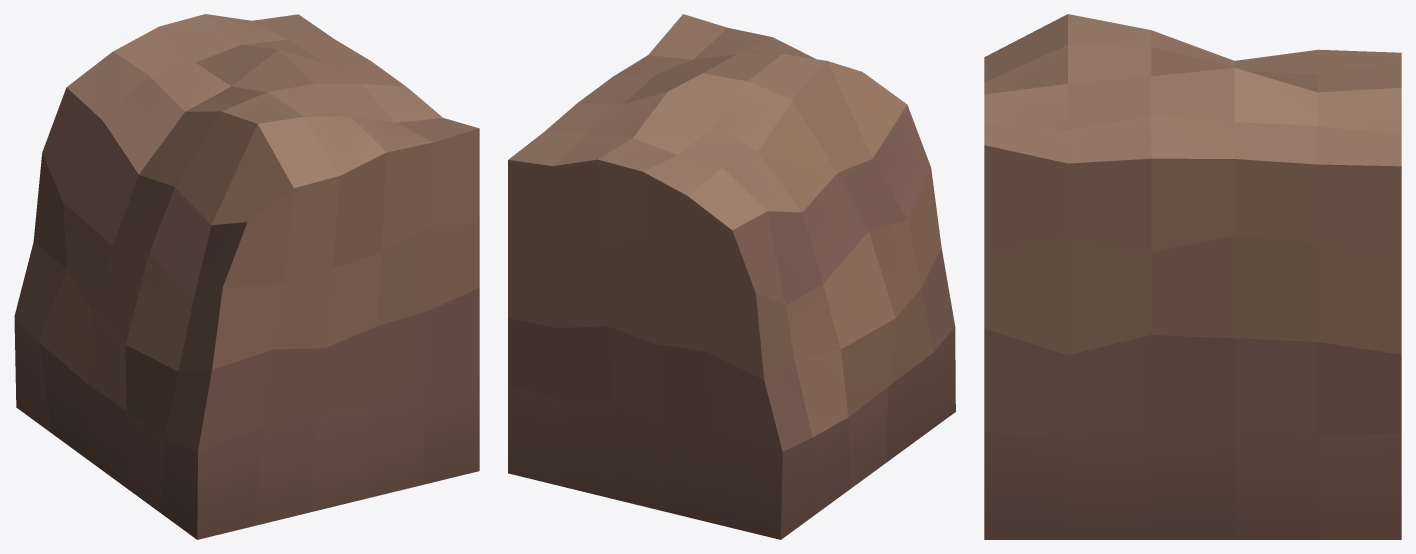
The model's file is roca_te_2.glb.
3 renders of one model, left to right at view 1: azimuth 30°, elevation 25°; view 2: azimuth 150°, elevation 25°; view 3: azimuth 270°, elevation 25°, orthographic. The views are drawn at different scales.
Parts seen in each view (by area): view 1: propforge-cuartos-roca_te; view 2: propforge-cuartos-roca_te; view 3: propforge-cuartos-roca_te.
Part boxes in pixels (x1,y1,x2,y2): propforge-cuartos-roca_te: [14, 14, 479, 539]; propforge-cuartos-roca_te: [508, 14, 955, 539]; propforge-cuartos-roca_te: [984, 14, 1401, 539].
Bounding box in the file's own units: 0.9168 × 1.12 × 1.
